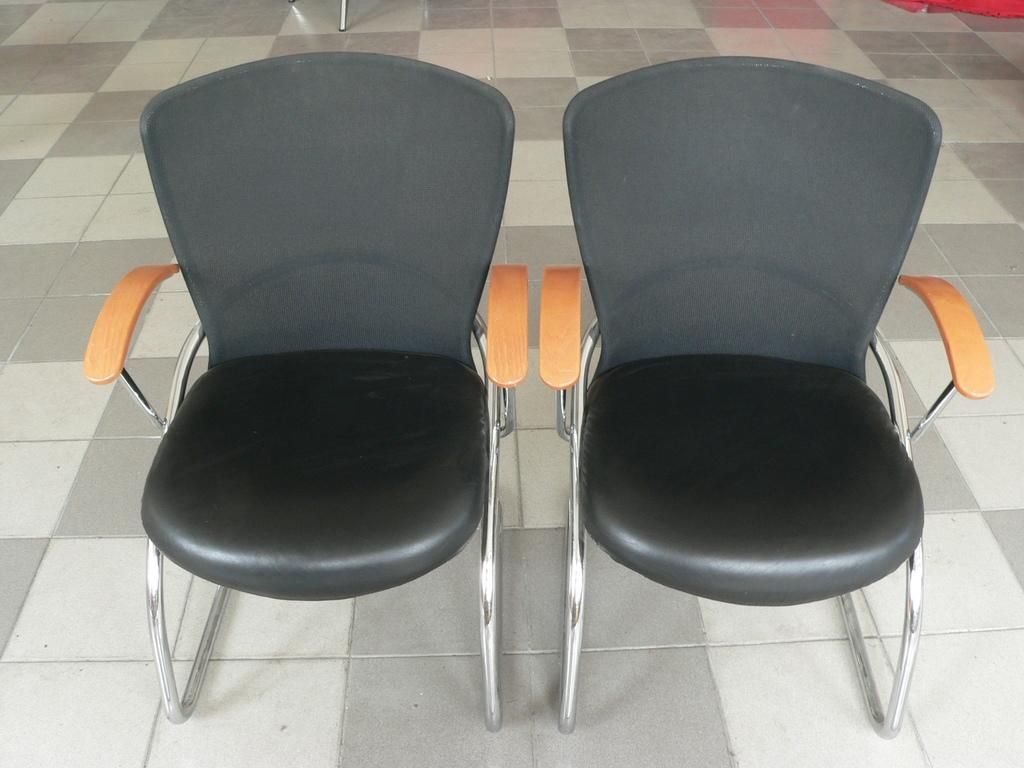Chair: (558, 45, 992, 751), (84, 50, 529, 735)
